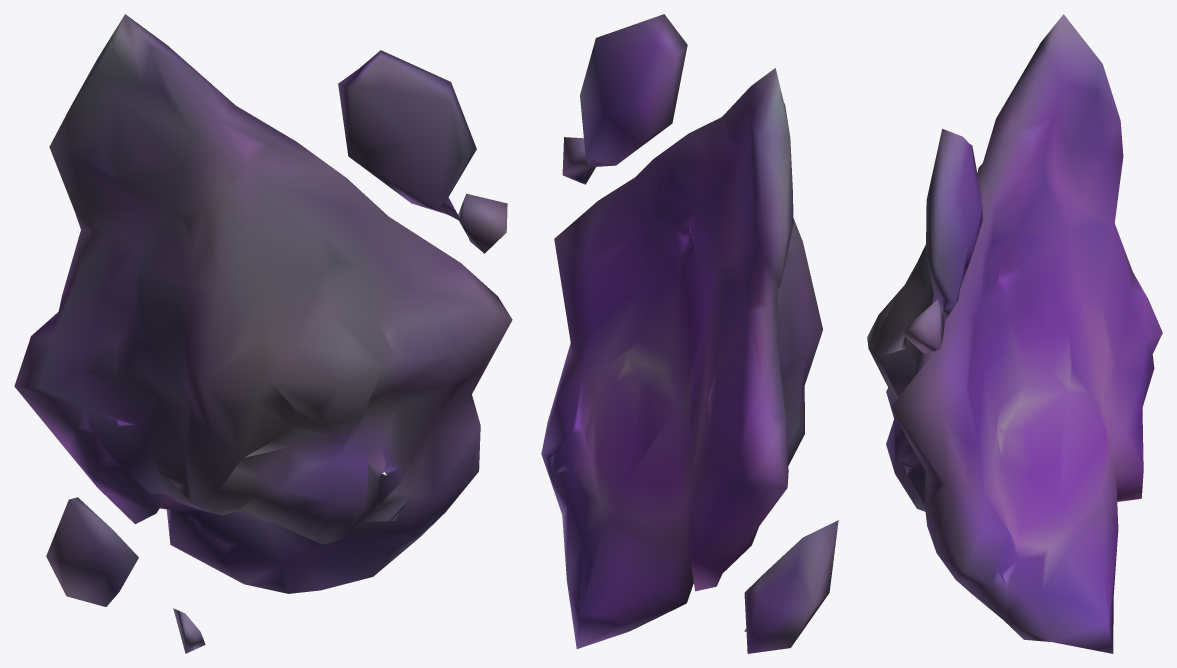
File: nota_la.glb
3 renders of one model, left to right at view 1: azimuth 30°, elevation 25°; view 2: azimuth 150°, elevation 25°; view 3: azimuth 270°, elevation 25°, orthographic. The views are drawn at different scales.
Size of the model in its own units: 0.6013 by 1 by 0.4792.
